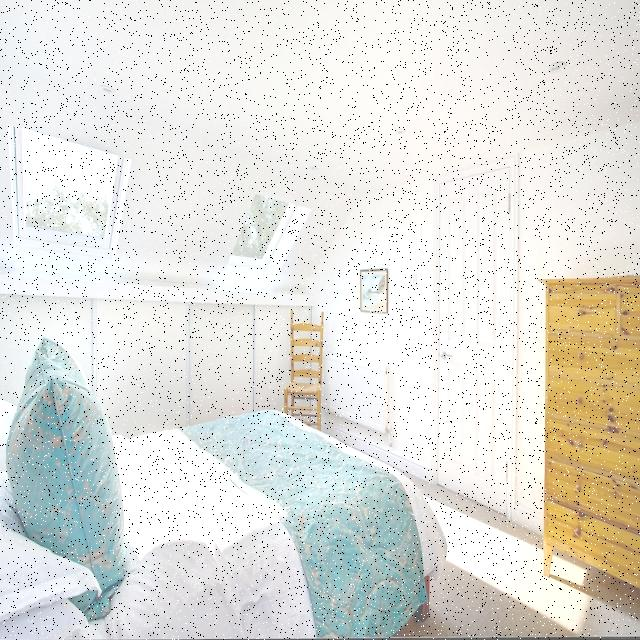bed: (0, 330, 429, 639)
